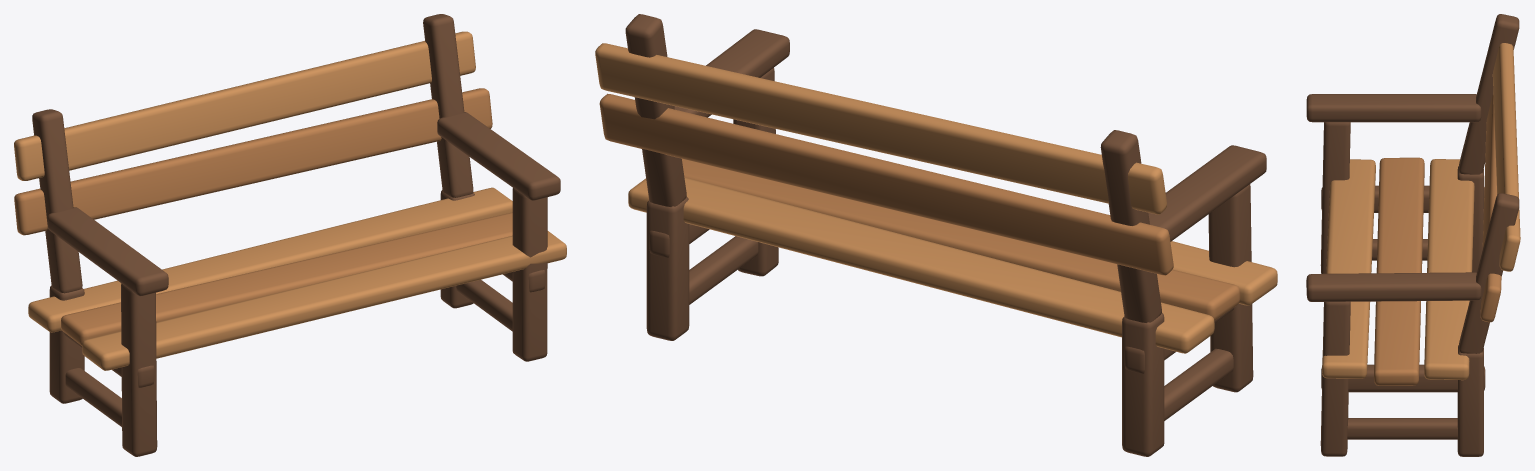
The model's file is Bench.glb.
3 views of the same model, side by side, from view 1: azimuth 30°, elevation 25°; view 2: azimuth 150°, elevation 25°; view 3: azimuth 270°, elevation 25° (orthographic). The views are drawn at different scales.
Visible parts, largest first — view 1: Bench; view 2: Bench; view 3: Bench.
Boxes of the visible parts, x1,y1,x2,y2 form: Bench: [14, 14, 566, 456]; Bench: [595, 14, 1277, 456]; Bench: [1306, 14, 1520, 456].
Bounding box in the file's own units: 1.93 × 1.07 × 0.8084.
